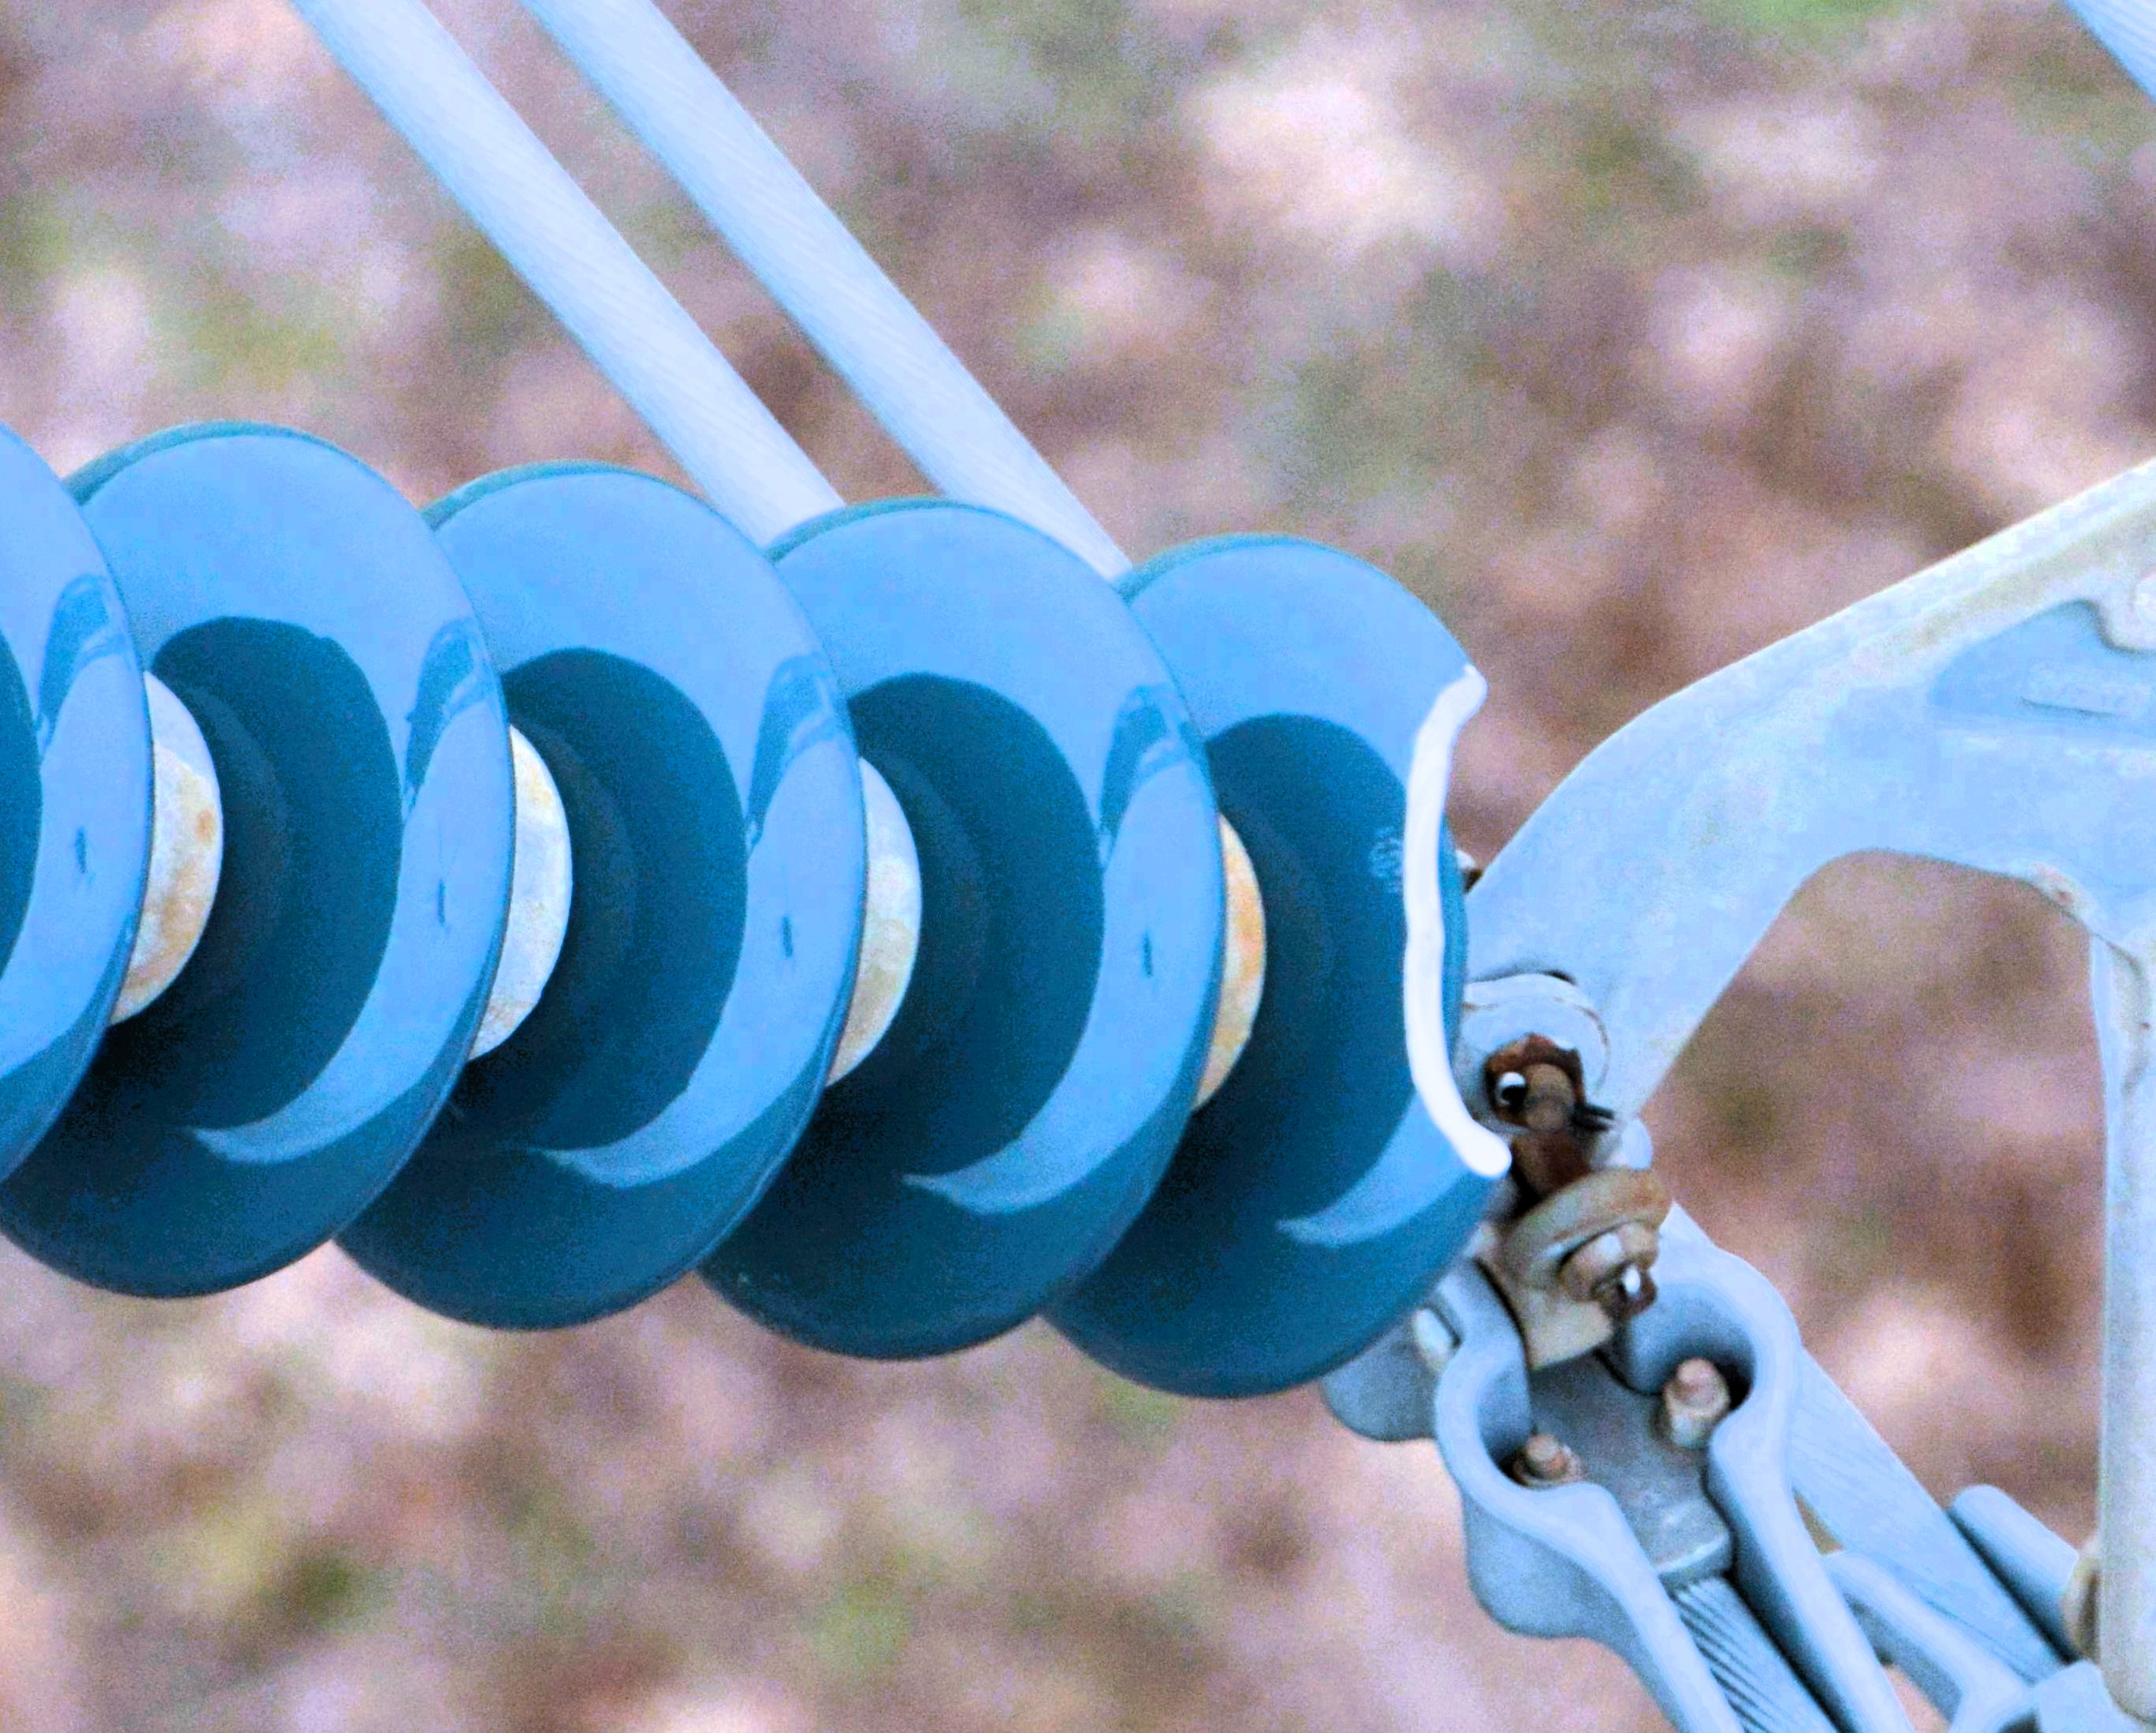insulator breakage: (998, 518, 1528, 1393)
